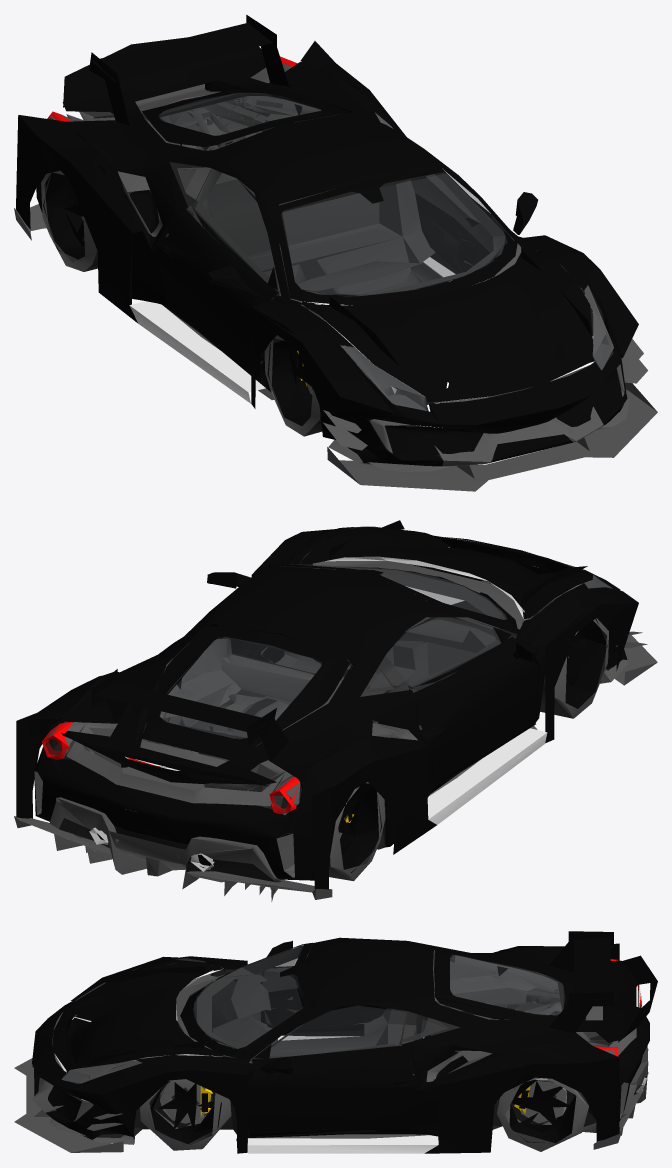
File: ferrari-488-pista_lod.glb
3 views of the same model, one above another, from view 1: azimuth 30°, elevation 25°; view 2: azimuth 150°, elevation 25°; view 3: azimuth 270°, elevation 25° (orthographic). The views are drawn at different scales.
Visible parts, largest first — view 1: body, interior, wheel_1, wheel_3; view 2: body, interior, wheel_3, wheel_1; view 3: body, interior, wheel_2, wheel_0.
Part boxes in pixels (box(x1,y1,x2,y2)): body: box(14, 14, 657, 491); interior: box(177, 167, 505, 378); wheel_1: box(264, 316, 322, 436); wheel_3: box(41, 170, 97, 271); body: box(14, 520, 657, 901); interior: box(275, 566, 516, 729); wheel_3: box(329, 782, 385, 881); wheel_1: box(540, 618, 608, 718); body: box(14, 931, 657, 1153); interior: box(197, 944, 448, 1063); wheel_2: box(496, 1077, 589, 1151); wheel_0: box(140, 1079, 231, 1150).
Size of the model in its own units: 2.15 by 1.06 by 4.61.
4 materials, 3 textured.
